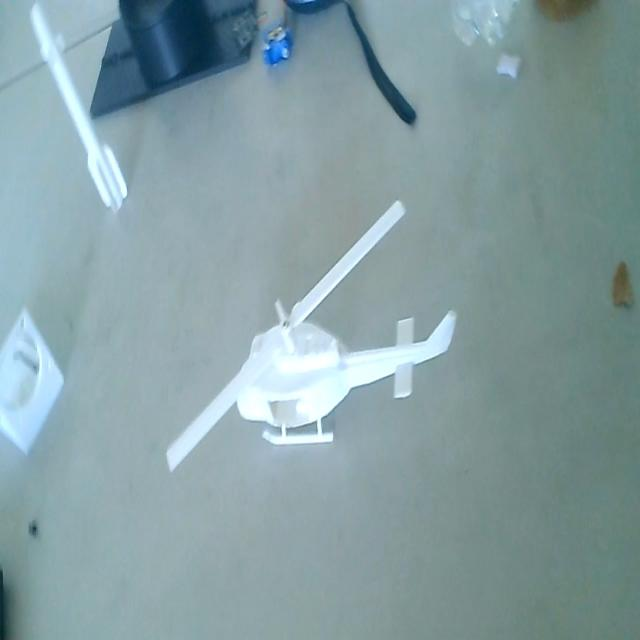Helicopter: (165, 194, 465, 503)
Rocket: (28, 0, 132, 213)
